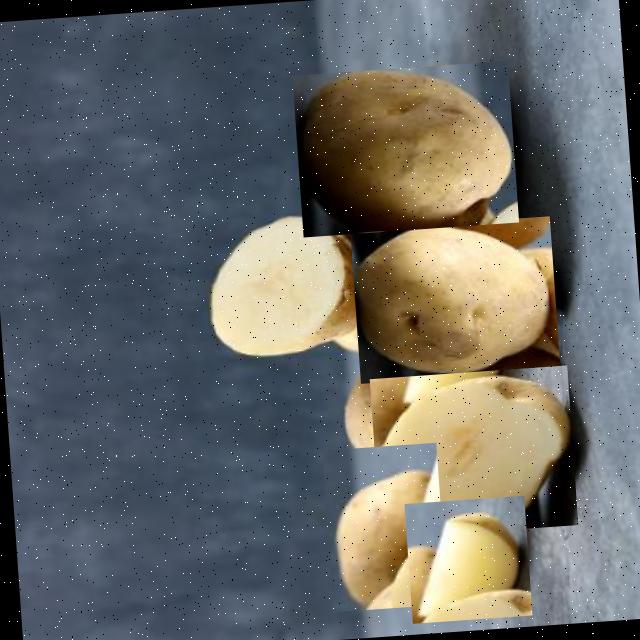Potato: (291, 60, 518, 237), (368, 365, 577, 538), (349, 215, 559, 384), (199, 210, 370, 365), (321, 442, 446, 612), (326, 352, 454, 494), (403, 496, 531, 624)
